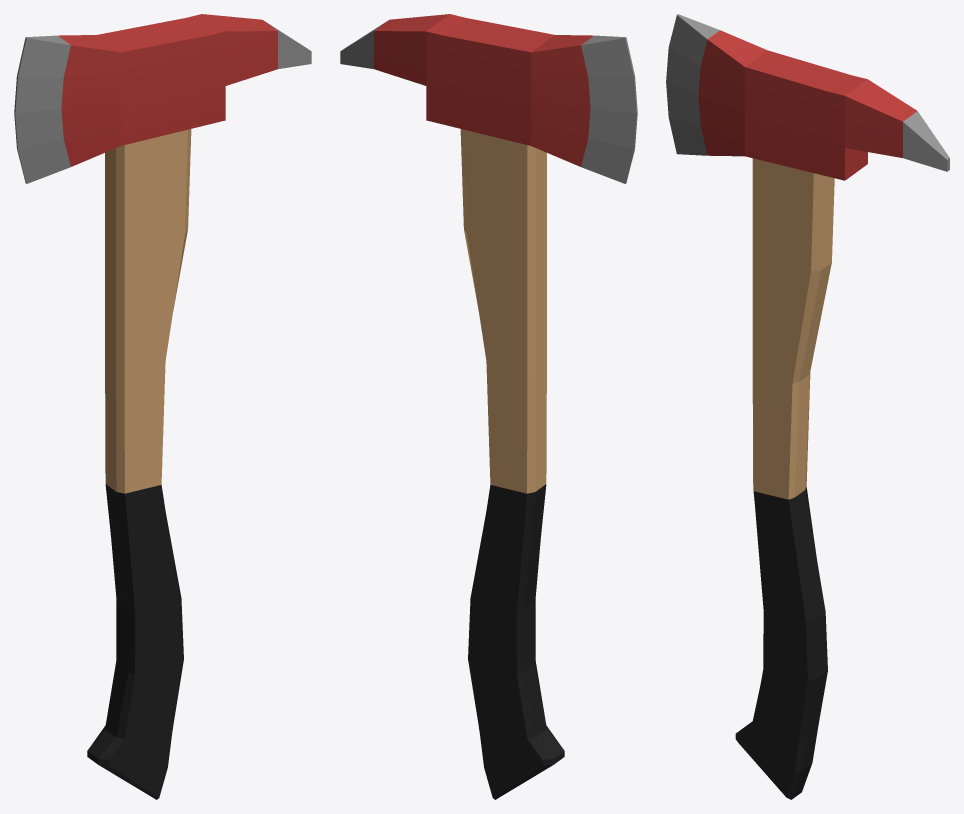
The model's file is FireAx_01.fbx.
The picture shows the model from 3 angles, left to right: view 1: azimuth 30°, elevation 25°; view 2: azimuth 150°, elevation 25°; view 3: azimuth 330°, elevation 25°; orthographic projection. The views are drawn at different scales.
Visible parts, largest first — view 1: FireAx_01; view 2: FireAx_01; view 3: FireAx_01.
Boxes of the visible parts, x1=… form: FireAx_01: x1=14, y1=14, x2=311, y2=799; FireAx_01: x1=340, y1=14, x2=637, y2=799; FireAx_01: x1=666, y1=14, x2=949, y2=799.
Size of the model in its own units: 0.3601 by 0.9184 by 0.0503.
